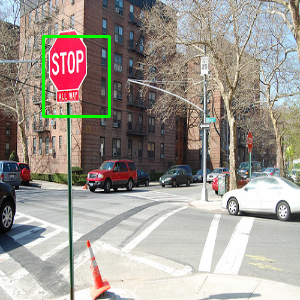STOP_SIGN: (106, 11, 156, 94)
